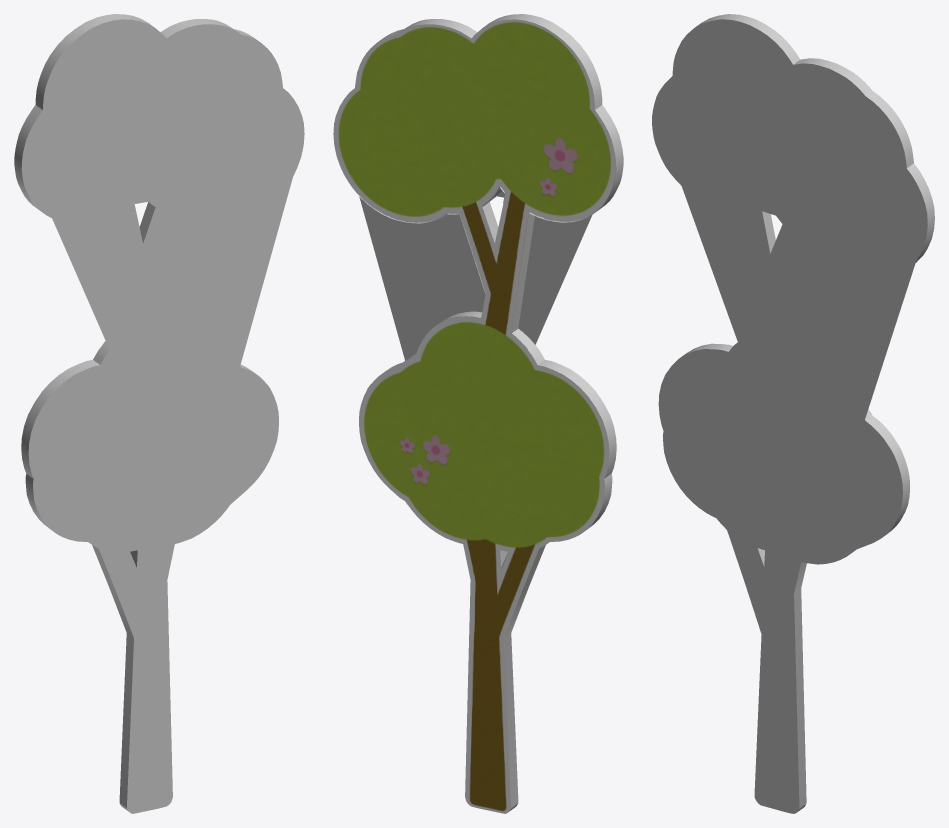
File: tree1.fbx
3 views of the same model, side by side, from view 1: azimuth 30°, elevation 25°; view 2: azimuth 150°, elevation 25°; view 3: azimuth 330°, elevation 25° (orthographic). The views are drawn at different scales.
Parts seen in each view (by area): view 1: Vert.031; view 2: Vert.031; view 3: Vert.031.
Boxes of the visible parts, x1,y1,x2,y2 form: Vert.031: (14, 14, 304, 813); Vert.031: (333, 14, 623, 813); Vert.031: (652, 14, 934, 813).
Size of the model in its own units: 488 by 1318 by 22.04.
